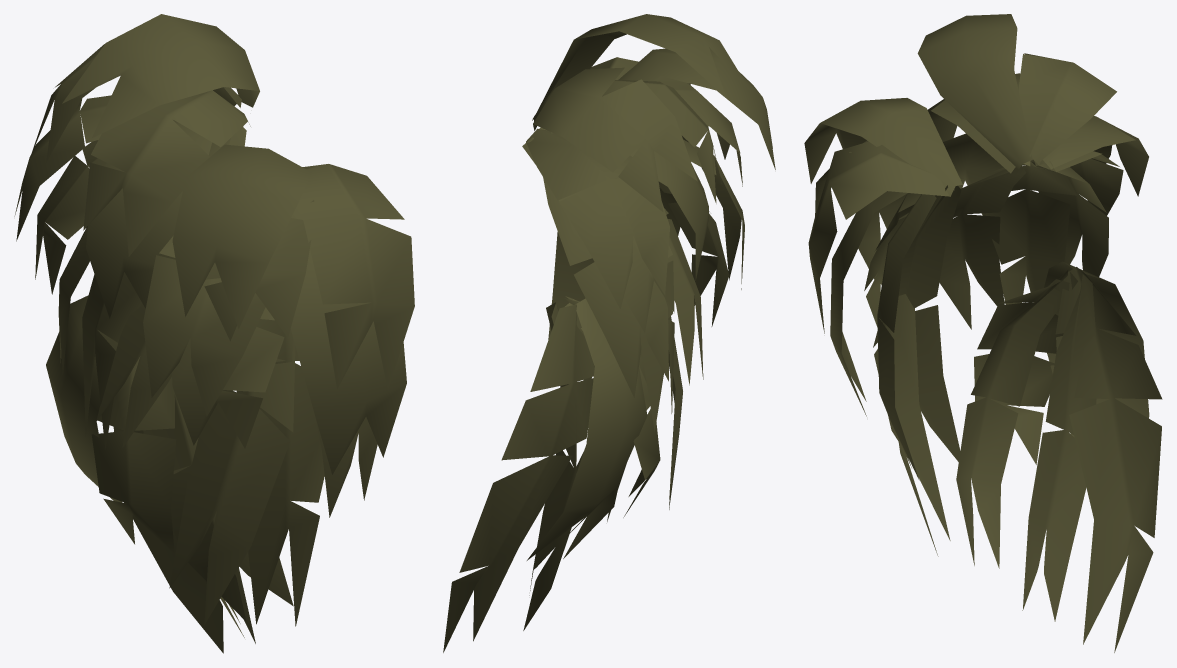
Rendered from foliage_broad_004.fbx.
3 views of the same model, side by side, from view 1: azimuth 30°, elevation 25°; view 2: azimuth 150°, elevation 25°; view 3: azimuth 270°, elevation 25° (orthographic). The views are drawn at different scales.
Visible parts, largest first — view 1: Foliage_broad_04; view 2: Foliage_broad_04; view 3: Foliage_broad_04.
Boxes of the visible parts, left/top/right/bottom form: Foliage_broad_04: left=14, top=14, right=414, bottom=653; Foliage_broad_04: left=443, top=14, right=775, bottom=652; Foliage_broad_04: left=804, top=14, right=1162, bottom=652.
Bounding box in the file's own units: 79.85 × 203 × 116.
